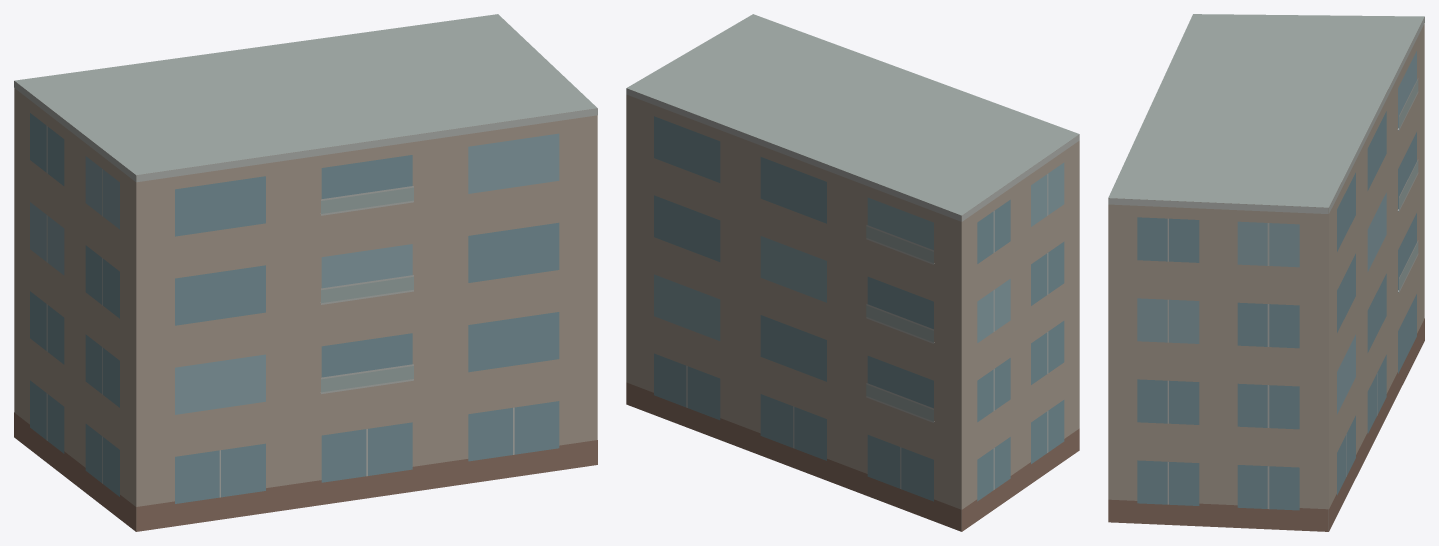
Rendered from residential-b2ab49f2-9d3c-4bed-b2e1-2a645c78bcac.glb.
3 renders of one model, left to right at view 1: azimuth 30°, elevation 25°; view 2: azimuth 150°, elevation 25°; view 3: azimuth 270°, elevation 25°, orthographic. The views are drawn at different scales.
Parts seen in each view (by area): view 1: residential-b2ab49f2-9d3c-4bed-b2e1-2a645c78bcac.tmp; view 2: residential-b2ab49f2-9d3c-4bed-b2e1-2a645c78bcac.tmp; view 3: residential-b2ab49f2-9d3c-4bed-b2e1-2a645c78bcac.tmp.
Boxes of the visible parts, box(x1,y1,x2,y2) form: residential-b2ab49f2-9d3c-4bed-b2e1-2a645c78bcac.tmp: box(14, 14, 597, 531); residential-b2ab49f2-9d3c-4bed-b2e1-2a645c78bcac.tmp: box(626, 14, 1079, 531); residential-b2ab49f2-9d3c-4bed-b2e1-2a645c78bcac.tmp: box(1108, 14, 1424, 531).
Bounding box in the file's own units: 15.64 × 12.2 × 10.81.
